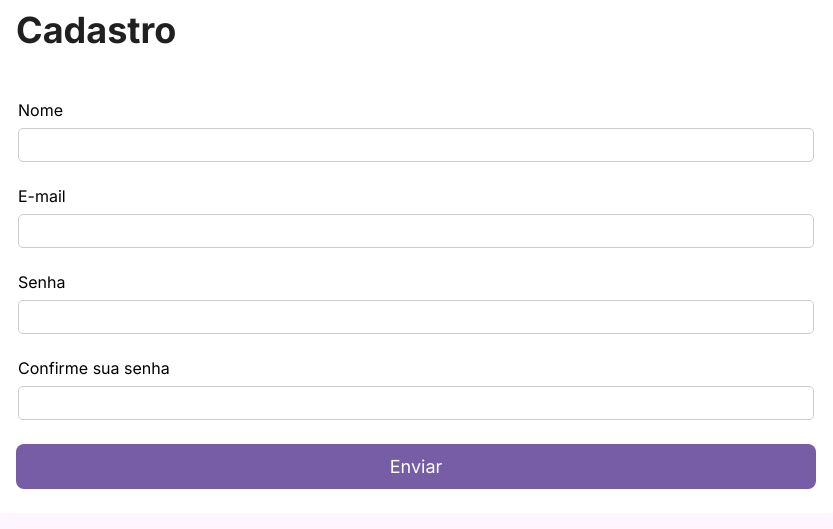
Test: App › validates invalid email field
Step 1. Type "Luffy" into the field labelled "Nome" → (416, 145), box [18,128,814,162]
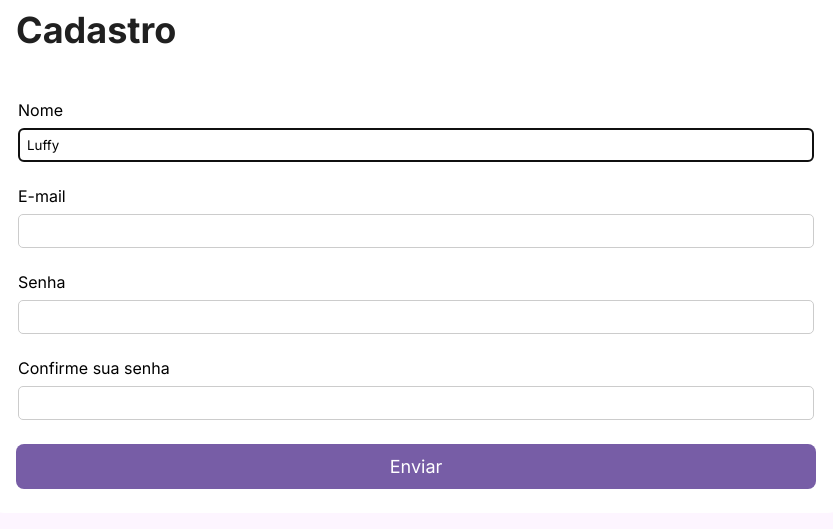
Step 2. Type "gomo gomo no mi" into the field labelled "E-mail" → (416, 231), box [18,214,814,248]
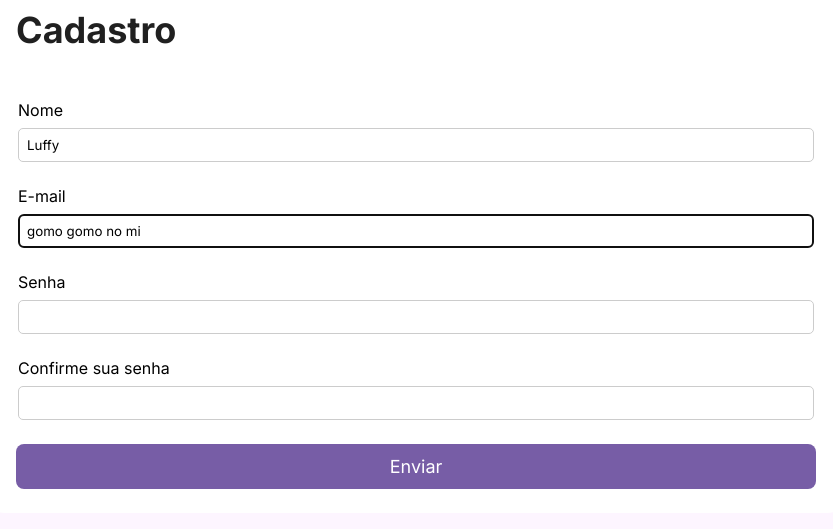
Step 3. Click the button "Enviar" → (416, 466), box [16,444,816,489]
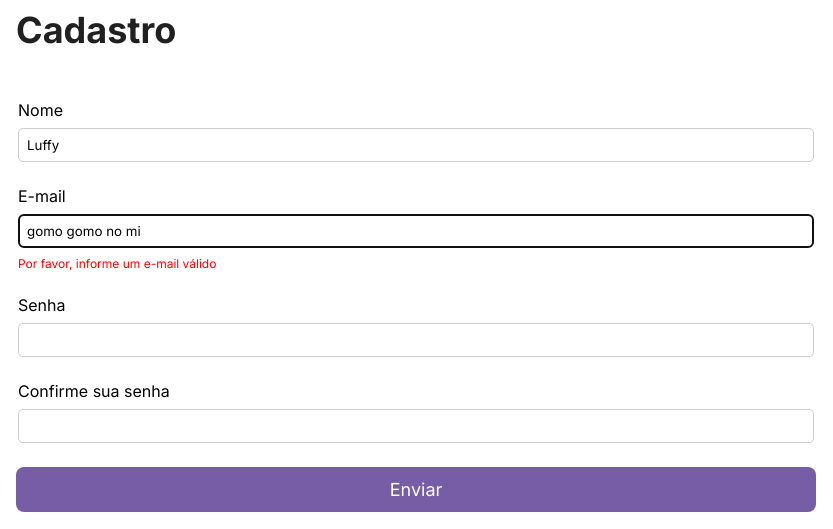
Now the text "Por favor, informe um e-mail válido" is shown, box [18,256,216,271]
